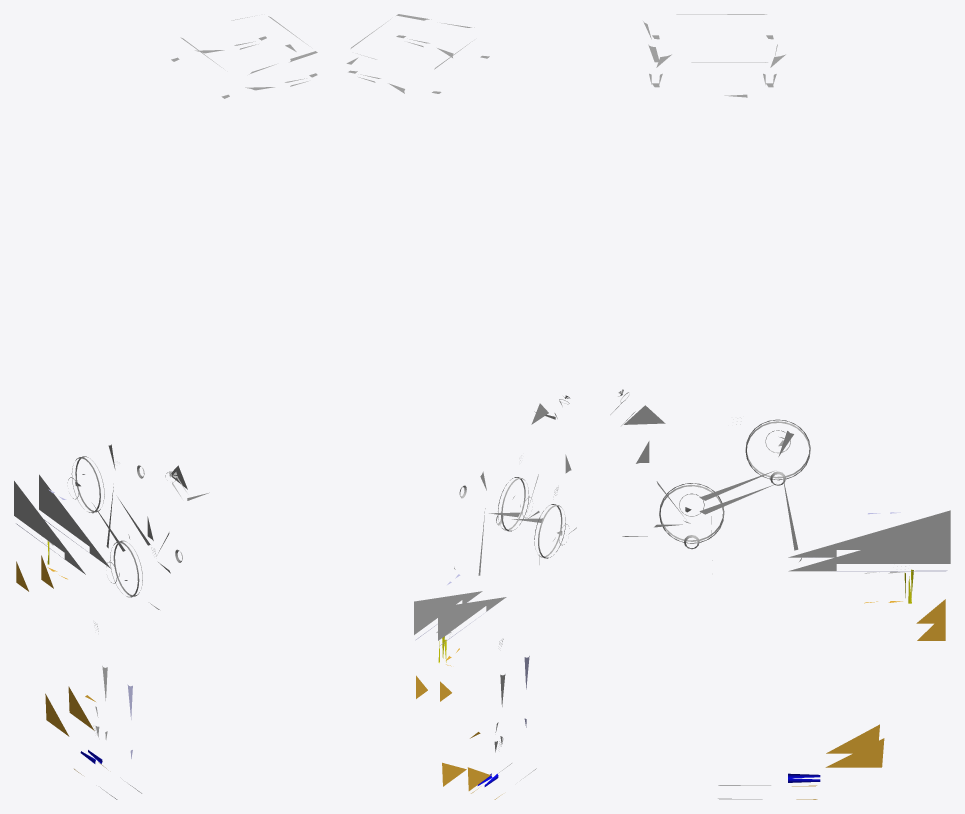
3 renders of one model, left to right at view 1: azimuth 30°, elevation 25°; view 2: azimuth 150°, elevation 25°; view 3: azimuth 270°, elevation 25°, orthographic. The views are drawn at different scales.
Visible parts, largest first — view 1: F19721000063102000135_001_zb_ub_auflage_35_fa (×3); view 2: F19721000063102000135_001_zb_ub_auflage_35_fa (×3); view 3: F19721000063102000135_001_zb_ub_auflage_35_fa (×3).
Part boxes in pixels (x1,y1,x2,y2): F19721000063102000135_001_zb_ub_auflage_35_fa (×3): (14, 16, 317, 799); F19721000063102000135_001_zb_ub_auflage_35_fa (×3): (346, 14, 576, 799); F19721000063102000135_001_zb_ub_auflage_35_fa (×3): (610, 14, 950, 799).
Bounding box in the file's own units: 163 × 212 × 555.
